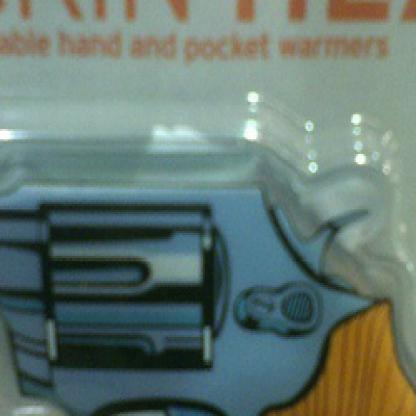gun: (0, 143, 415, 414)
